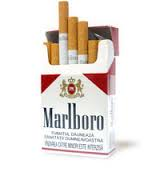marlboro: (41, 56, 107, 156)
